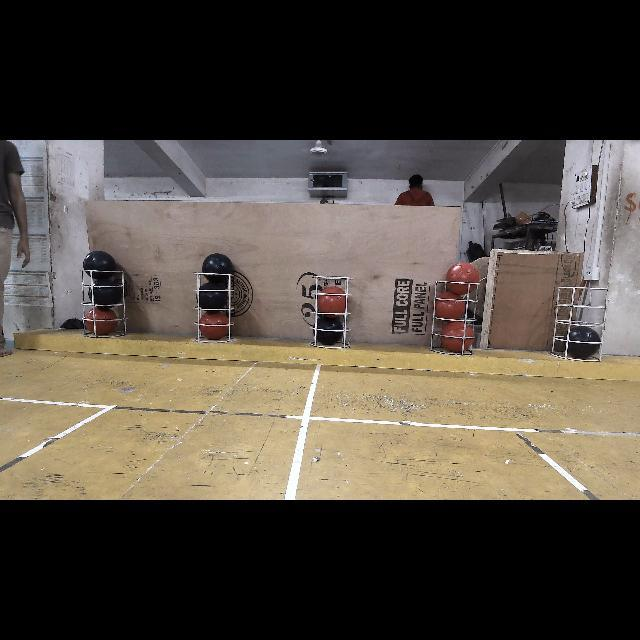P: (566, 328, 604, 362), (82, 250, 116, 279), (202, 254, 234, 284), (89, 279, 121, 307), (198, 283, 228, 311), (314, 318, 342, 346)
R: (446, 262, 480, 295), (316, 286, 348, 318), (441, 323, 474, 353), (198, 311, 232, 339), (435, 292, 465, 322), (84, 308, 118, 334)
S: (552, 282, 604, 361), (78, 264, 130, 340), (431, 276, 479, 358), (310, 268, 354, 348), (195, 267, 239, 341)
